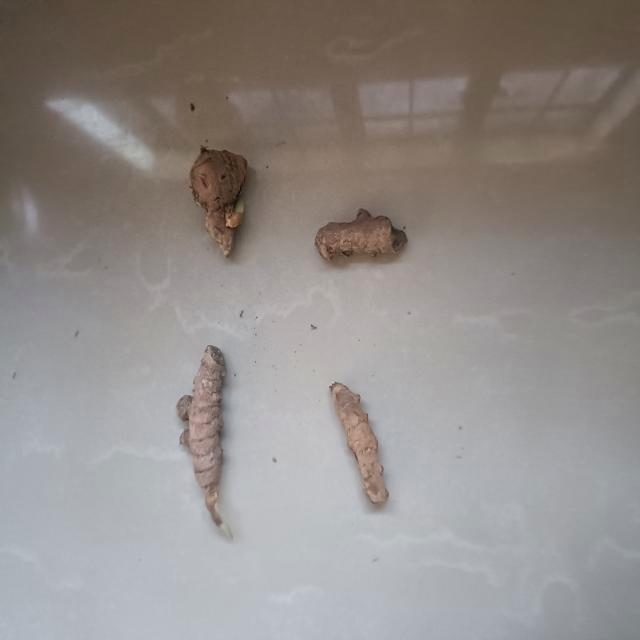ginger: (175, 343, 236, 541), (329, 379, 394, 512), (191, 145, 251, 256), (311, 207, 410, 264)
